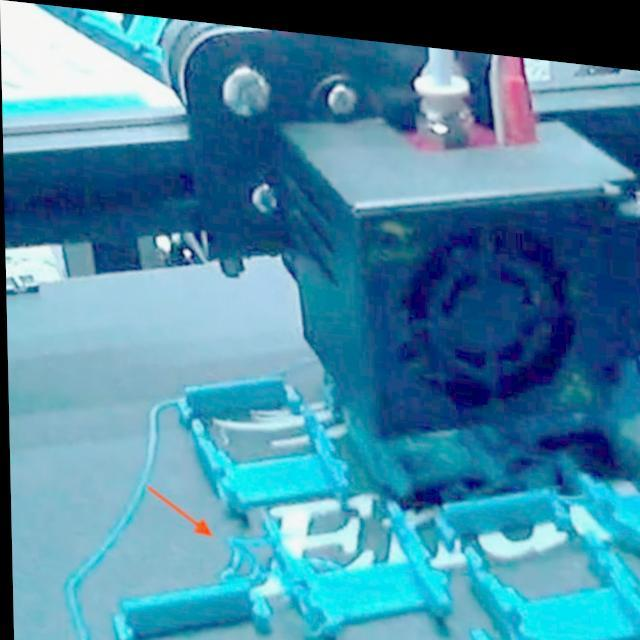spaghetti: (215, 518, 306, 596)
